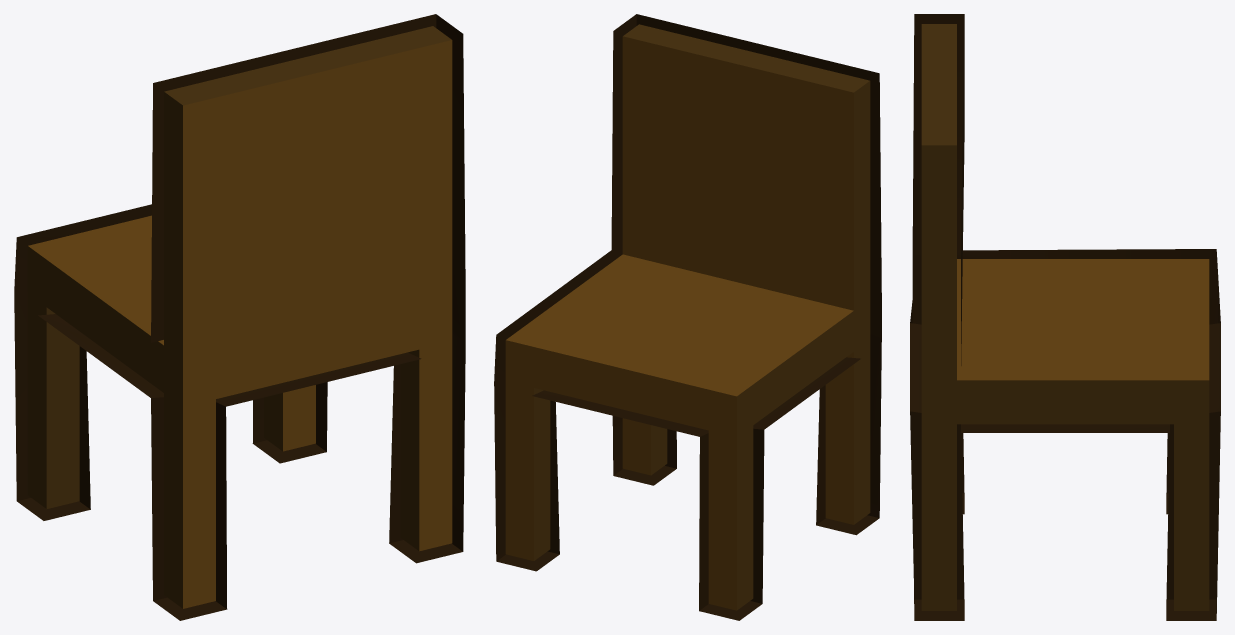
The model's file is Chair.FBX.
3 renders of one model, left to right at view 1: azimuth 30°, elevation 25°; view 2: azimuth 150°, elevation 25°; view 3: azimuth 270°, elevation 25°, orthographic. The views are drawn at different scales.
Visible parts, largest first — view 1: Chair; view 2: Chair; view 3: Chair.
Boxes of the visible parts, x1,y1,x2,y2 form: Chair: (14,14,465,620); Chair: (494,14,881,620); Chair: (910,14,1220,620).
Size of the model in its own units: 85.14 by 145 by 85.14.
Materials: 1 (1 with a texture image).
